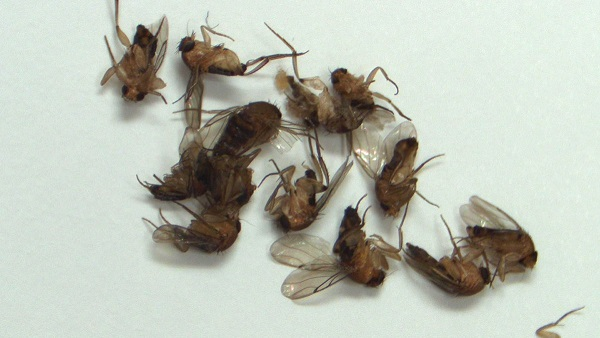phorid fly: (172, 9, 306, 120), (269, 205, 405, 307), (348, 116, 454, 228), (462, 177, 540, 291), (274, 57, 364, 154), (261, 138, 349, 234), (96, 3, 167, 109), (332, 54, 421, 130)
